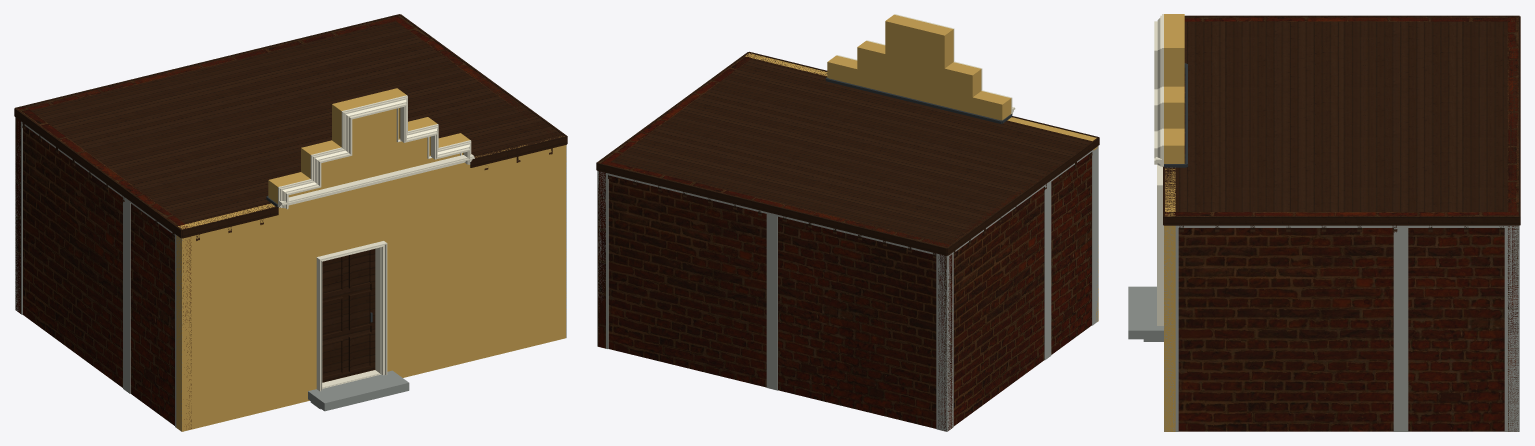
The model's file is building.glb.
3 renders of one model, left to right at view 1: azimuth 30°, elevation 25°; view 2: azimuth 150°, elevation 25°; view 3: azimuth 270°, elevation 25°, orthographic. The views are drawn at different scales.
Parts seen in each view (by area): view 1: house:0/edge0/z0/house:0/edge0/z0/wall_0_0, roof_assembly/cubierta/roof_substrate#0001, house:0/edge3/z0/house:0/edge3/z0/wall_0_0, crown/fronton/crown_body#0001, crown/fronton/crown_moulding#0001, house:0/edge2/z0/house:0/edge2/z0/wall_0_0, site/entrance/0/entrance_step#0002, roof_assembly/cubierta/roof_fascia#0002, crown/fronton/crown_base_cornice#0001, house:0/edge3/z0/house:0/edge3/z0/column_2_0, house:0/edge0/z0/opening_u2.80_v0.12/door_panel_back#0001, house:0/edge1/z0/house:0/edge1/z0/wall_0_0 (+15 smaller); view 2: house:0/edge2/z0/house:0/edge2/z0/wall_0_0, roof_assembly/cubierta/roof_substrate#0001, house:0/edge3/z0/house:0/edge3/z0/wall_0_0, crown/fronton/crown_body#0001, roof_assembly/cubierta/roof_fascia#0001, house:0/edge1/z0/house:0/edge1/z0/wall_0_0, house:0/edge2/z0/house:0/edge2/z0/column_2_0, house:0/edge2/z0/house:0/edge2/z0/column_1_0, roof_assembly/cubierta/roof_fascia#0002, house:0/edge3/z0/house:0/edge3/z0/column_2_0, house:0/edge3/z0/house:0/edge3/z0/column_1_0, house:0/edge3/z0/house:0/edge3/z0/column_0_0 (+4 smaller); view 3: house:0/edge1/z0/house:0/edge1/z0/wall_0_0, roof_assembly/cubierta/roof_substrate#0001, house:0/edge2/z0/house:0/edge2/z0/wall_0_0, roof_assembly/cubierta/roof_fascia#0005, house:0/edge1/z0/house:0/edge1/z0/column_2_0, house:0/edge1/z0/house:0/edge1/z0/column_1_0, house:0/edge0/z0/house:0/edge0/z0/wall_0_0, crown/fronton/crown_body#0001, house:0/edge3/z0/house:0/edge3/z0/wall_0_0, house:0/edge1/z0/house:0/edge1/z0/column_0_0, site/entrance/0/entrance_step#0002, crown/fronton/crown_moulding#0001 (+5 smaller).
Part boxes in pixels (bbox=[...]): house:0/edge0/z0/house:0/edge0/z0/wall_0_0: bbox=[176, 136, 566, 431]; roof_assembly/cubierta/roof_substrate#0001: bbox=[26, 17, 563, 227]; house:0/edge3/z0/house:0/edge3/z0/wall_0_0: bbox=[17, 106, 191, 428]; crown/fronton/crown_body#0001: bbox=[268, 88, 468, 202]; crown/fronton/crown_moulding#0001: bbox=[278, 95, 471, 209]; house:0/edge2/z0/house:0/edge2/z0/wall_0_0: bbox=[15, 17, 401, 313]; site/entrance/0/entrance_step#0002: bbox=[308, 370, 409, 411]; roof_assembly/cubierta/roof_fascia#0002: bbox=[14, 108, 181, 238]; crown/fronton/crown_base_cornice#0001: bbox=[278, 154, 474, 207]; house:0/edge3/z0/house:0/edge3/z0/column_2_0: bbox=[123, 198, 130, 393]; house:0/edge0/z0/opening_u2.80_v0.12/door_panel_back#0001: bbox=[322, 255, 370, 372]; house:0/edge1/z0/house:0/edge1/z0/wall_0_0: bbox=[391, 15, 557, 136]; house:0/edge2/z0/house:0/edge2/z0/wall_0_0: bbox=[602, 160, 952, 430]; roof_assembly/cubierta/roof_substrate#0001: bbox=[611, 54, 1091, 247]; house:0/edge3/z0/house:0/edge3/z0/wall_0_0: bbox=[938, 154, 1091, 431]; crown/fronton/crown_body#0001: bbox=[827, 15, 1009, 120]; roof_assembly/cubierta/roof_fascia#0001: bbox=[596, 162, 947, 255]; house:0/edge1/z0/house:0/edge1/z0/wall_0_0: bbox=[598, 53, 755, 348]; house:0/edge2/z0/house:0/edge2/z0/column_2_0: bbox=[766, 214, 777, 390]; house:0/edge2/z0/house:0/edge2/z0/column_1_0: bbox=[936, 255, 947, 431]; roof_assembly/cubierta/roof_fascia#0002: bbox=[947, 137, 1099, 255]; house:0/edge3/z0/house:0/edge3/z0/column_2_0: bbox=[1044, 182, 1051, 360]; house:0/edge3/z0/house:0/edge3/z0/column_1_0: bbox=[1092, 147, 1098, 325]; house:0/edge3/z0/house:0/edge3/z0/column_0_0: bbox=[946, 253, 953, 431]; house:0/edge1/z0/house:0/edge1/z0/wall_0_0: bbox=[1165, 212, 1518, 431]; roof_assembly/cubierta/roof_substrate#0001: bbox=[1165, 17, 1518, 216]; house:0/edge2/z0/house:0/edge2/z0/wall_0_0: bbox=[1507, 17, 1518, 431]; roof_assembly/cubierta/roof_fascia#0005: bbox=[1164, 216, 1519, 225]; house:0/edge1/z0/house:0/edge1/z0/column_2_0: bbox=[1393, 228, 1408, 431]; house:0/edge1/z0/house:0/edge1/z0/column_1_0: bbox=[1504, 228, 1519, 431]; house:0/edge0/z0/house:0/edge0/z0/wall_0_0: bbox=[1164, 168, 1175, 431]; crown/fronton/crown_body#0001: bbox=[1167, 14, 1184, 163]; house:0/edge3/z0/house:0/edge3/z0/wall_0_0: bbox=[1184, 17, 1518, 163]; house:0/edge1/z0/house:0/edge1/z0/column_0_0: bbox=[1164, 228, 1178, 431]; site/entrance/0/entrance_step#0002: bbox=[1128, 286, 1163, 339]; crown/fronton/crown_moulding#0001: bbox=[1154, 14, 1163, 166].
Size of the model in its own units: 8.03 by 5.64 by 6.62.
Materials: 8 (2 with a texture image).
